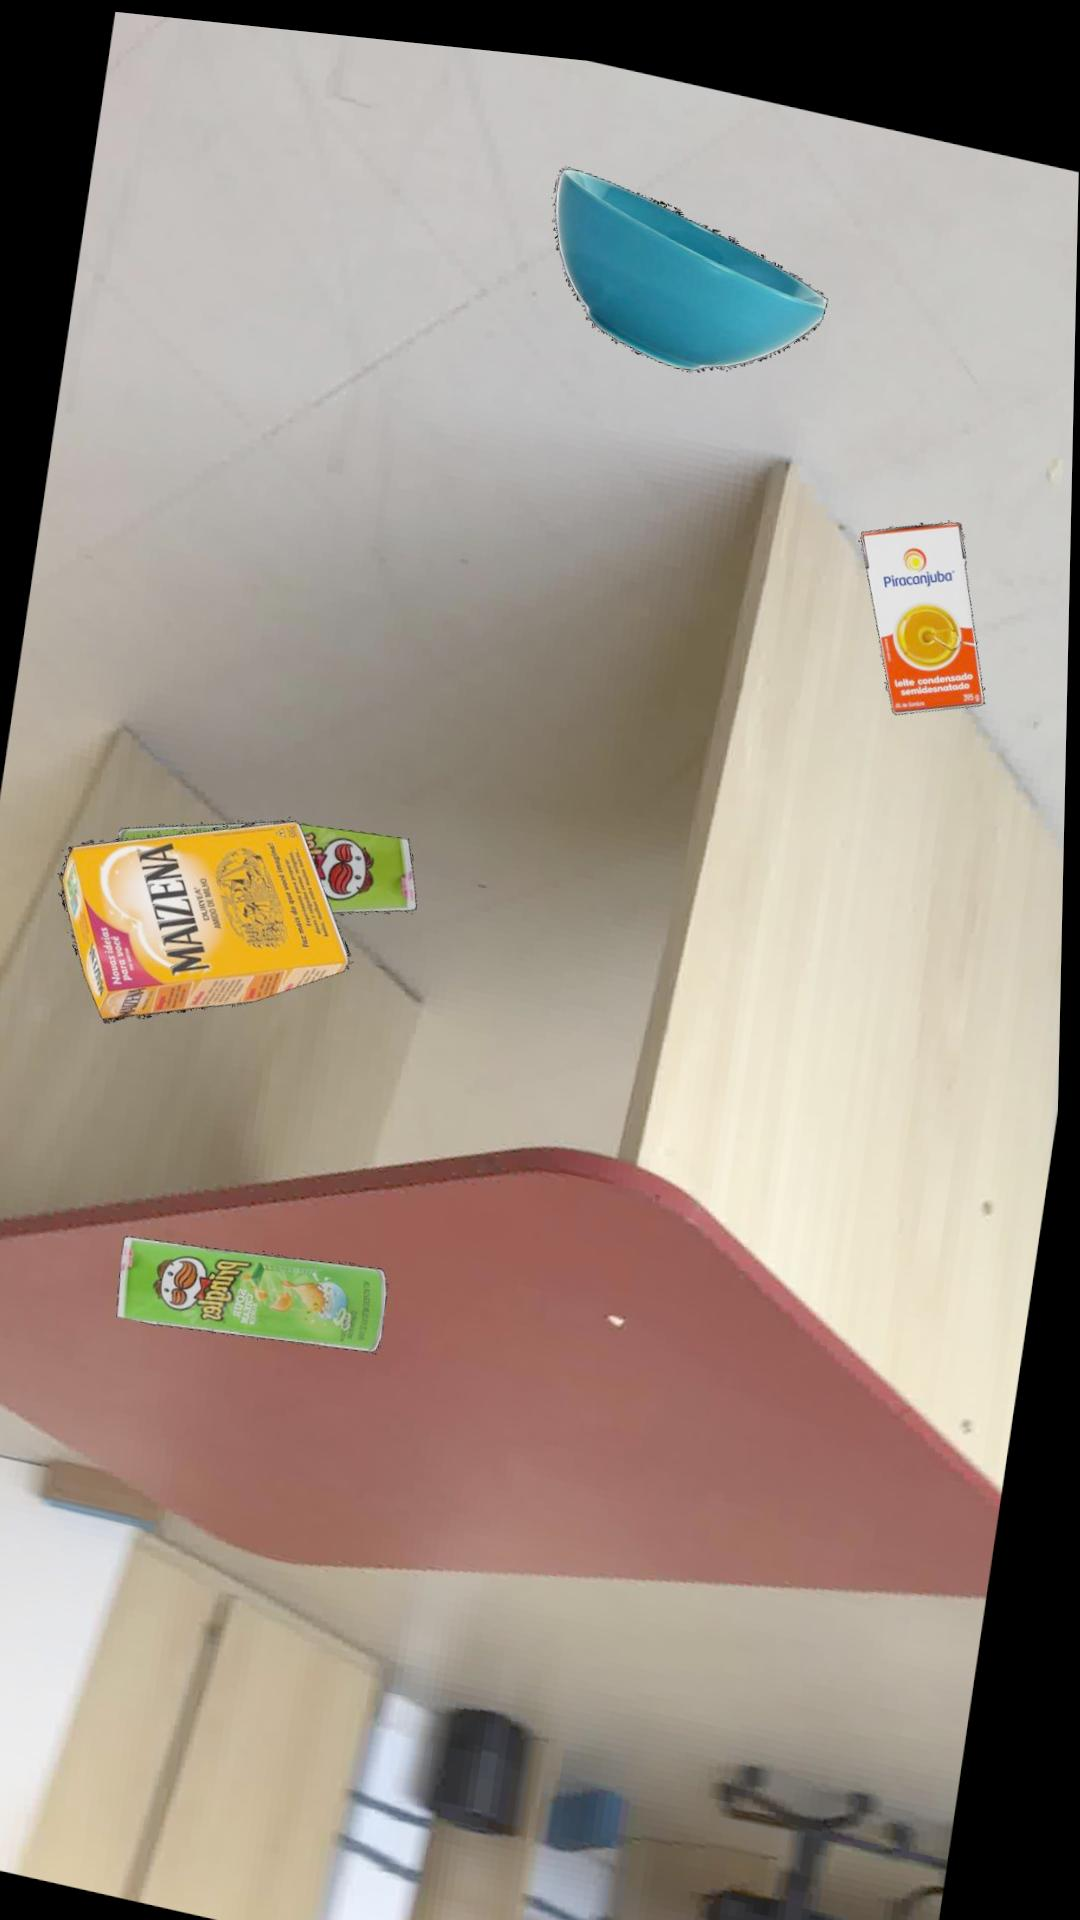bowl: (551, 156, 825, 357)
pringles: (119, 1232, 390, 1344), (119, 815, 418, 905)
